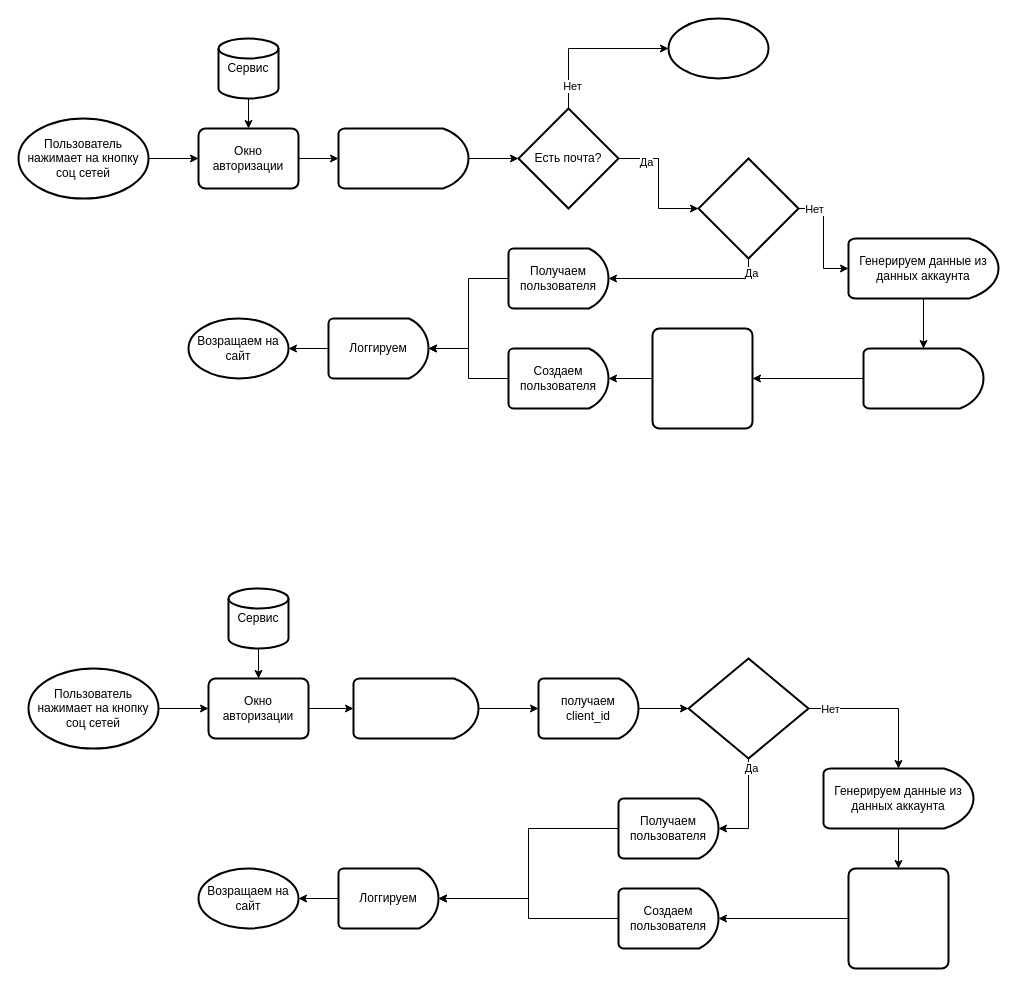
Image size: 1016x986. Some labels were removed from this diagram. The centre of each missing label's shape, as x and y in pixels:
Вывод "нет почты": (x=718, y=48)
Есть ли такой провайдер и client_id?: (x=748, y=708)
Есть почта в нашей БД?: (x=748, y=208)
Окно ввода пароля: (x=702, y=378)
Окно регистрации с заполненными данными: (x=898, y=918)
Получаем токен что за сервис часть данных: (x=415, y=708)
Пытаемся вытащить почту: (x=403, y=158)
Создаем аккаунт: (x=923, y=378)
